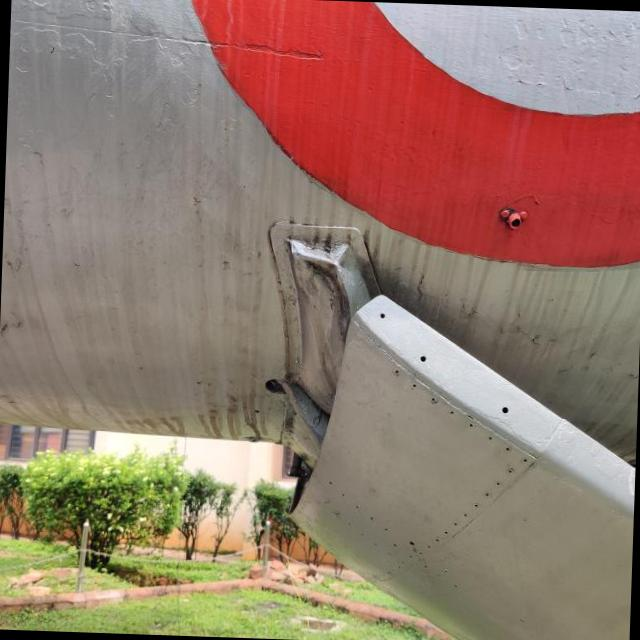Dent: (270, 222, 376, 411)
